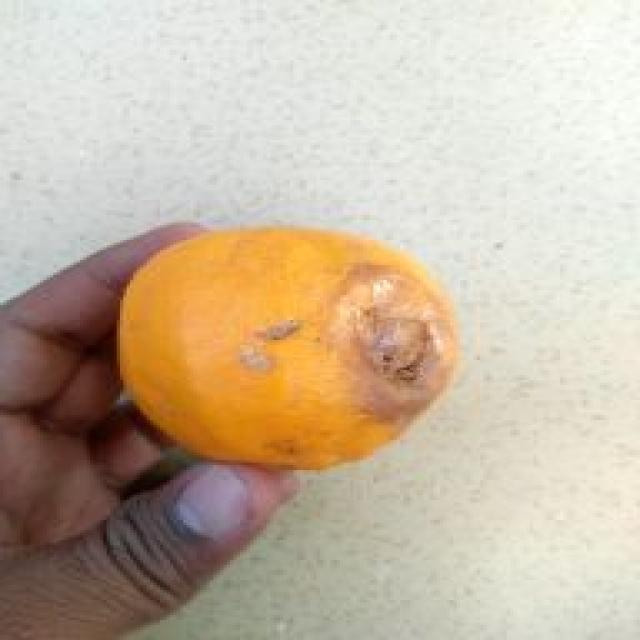Bad_Orange: (123, 228, 458, 468)
